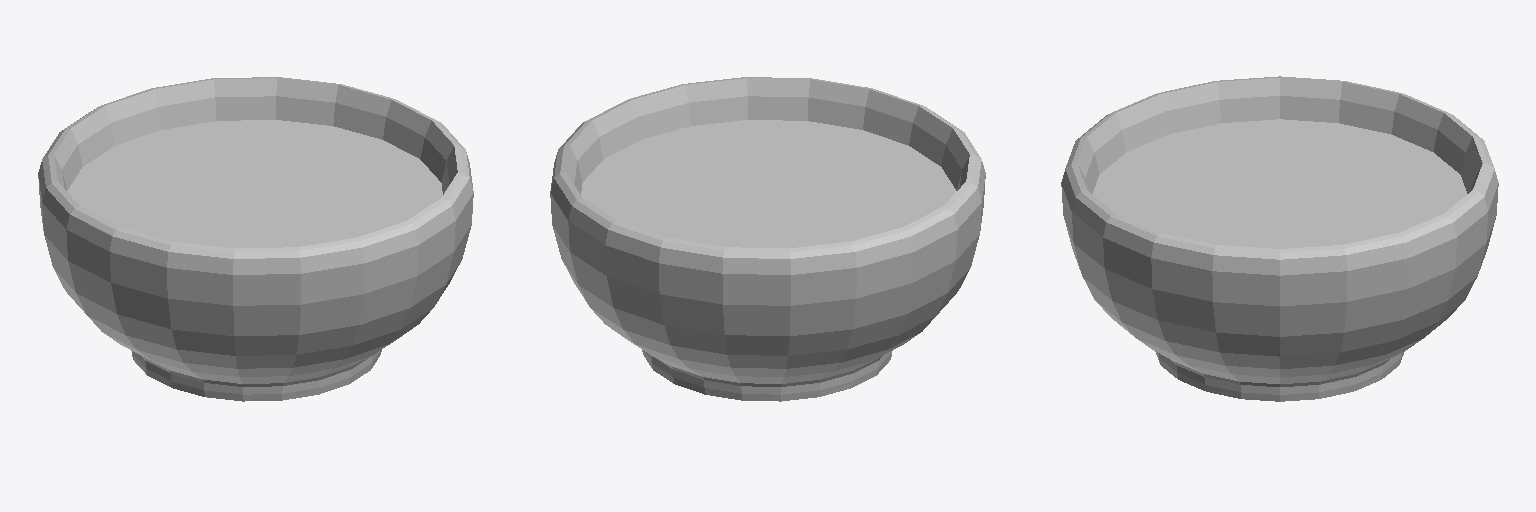
The model's file is bowl_with_food.obj.
3 views of the same model, side by side, from view 1: azimuth 30°, elevation 25°; view 2: azimuth 150°, elevation 25°; view 3: azimuth 270°, elevation 25° (orthographic).
Parts seen in each view (by area): view 1: pCylinder5; view 2: pCylinder5; view 3: pCylinder5.
Part boxes in pixels (bbox=[...]): pCylinder5: bbox=[38, 77, 473, 401]; pCylinder5: bbox=[550, 77, 985, 401]; pCylinder5: bbox=[1061, 76, 1498, 401].
Size of the model in its own units: 2.85 by 1.33 by 2.85.